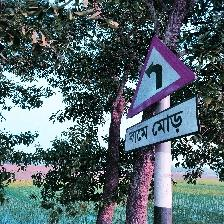Left-Turn: (122, 35, 200, 155)
